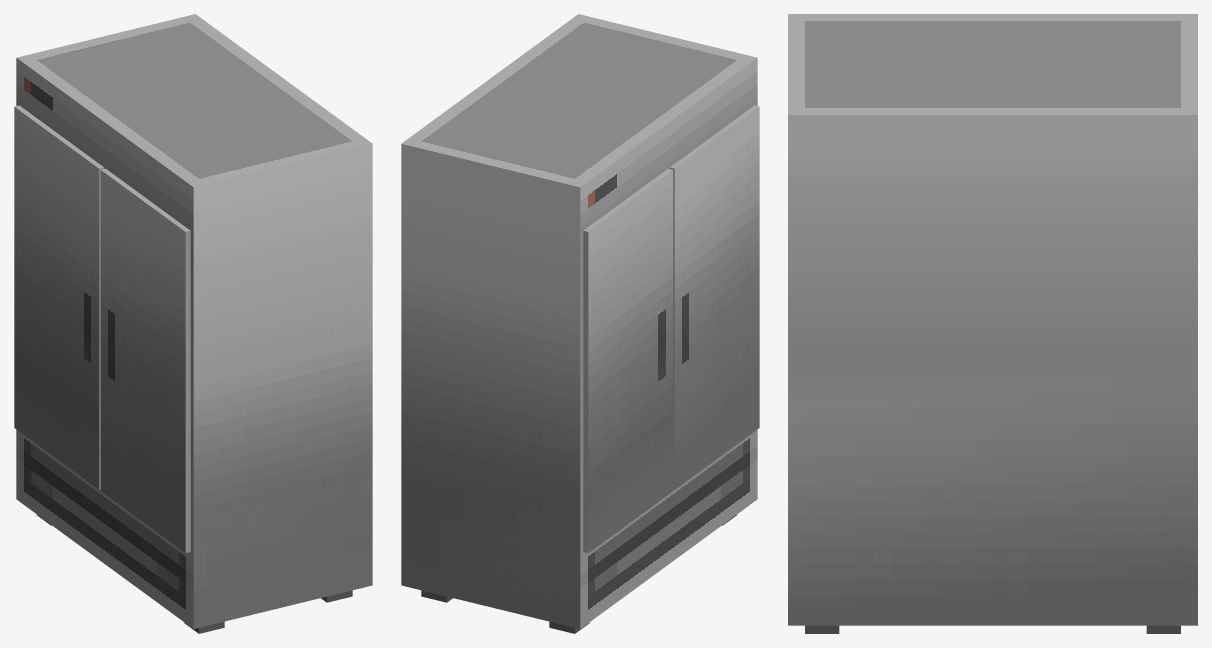
The model's file is Large Fridge.gltf.
The picture shows the model from 3 angles, left to right: view 1: azimuth 30°, elevation 25°; view 2: azimuth 150°, elevation 25°; view 3: azimuth 270°, elevation 25°; orthographic projection. The views are drawn at different scales.
Visible parts, largest first — view 1: cube (×3); view 2: cube (×3); view 3: cube.
Boxes of the visible parts, left/top/right/bottom form: cube (×3): left=14, top=14, right=372, bottom=628; cube (×3): left=401, top=14, right=759, bottom=628; cube: left=788, top=14, right=1197, bottom=625.
Size of the model in its own units: 0.225 by 0.5312 by 0.375.
1 material, 1 textured.
